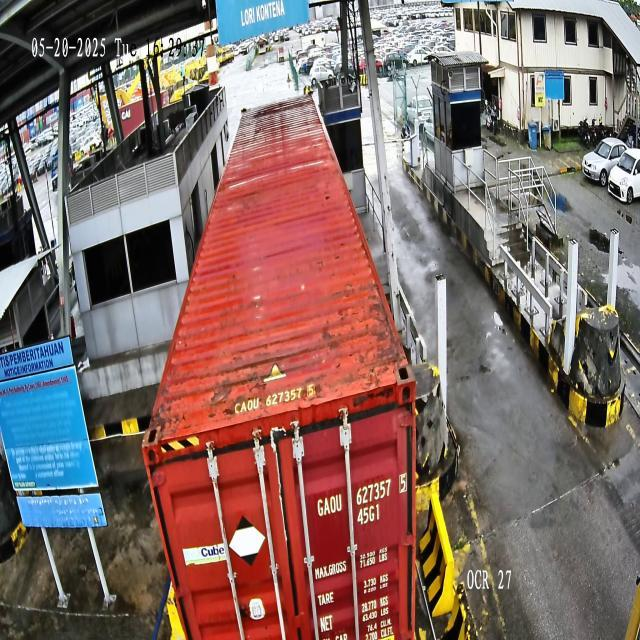ISO: (357, 502, 380, 526)
container_number: (317, 472, 408, 518)
